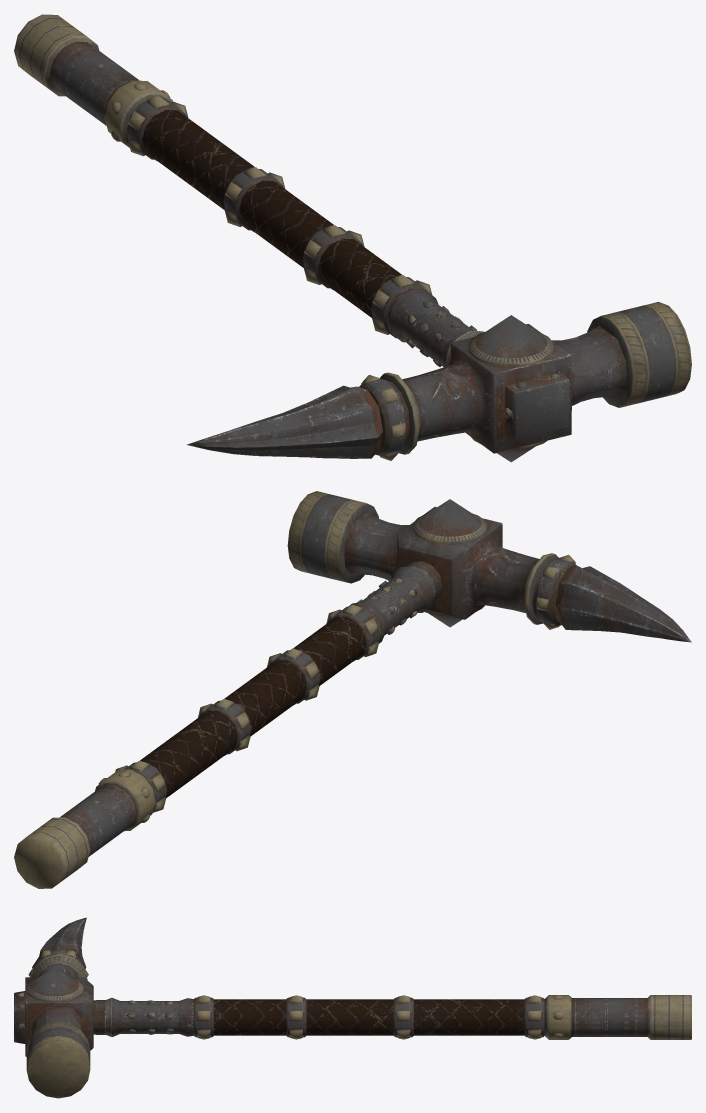
Rendered from warpick.fbx.
3 renders of one model, top to bottom at view 1: azimuth 30°, elevation 25°; view 2: azimuth 150°, elevation 25°; view 3: azimuth 270°, elevation 25°, orthographic. The views are drawn at different scales.
Parts seen in each view (by area): view 1: WP_A_0809; view 2: WP_A_0809; view 3: WP_A_0809.
Boxes of the visible parts, bbox=[...] form: WP_A_0809: bbox=[14, 14, 691, 462]; WP_A_0809: bbox=[14, 491, 691, 888]; WP_A_0809: bbox=[14, 917, 691, 1098].
Size of the model in its own units: 35.56 by 10.86 by 66.8.
Materials: 1 (1 with a texture image).
